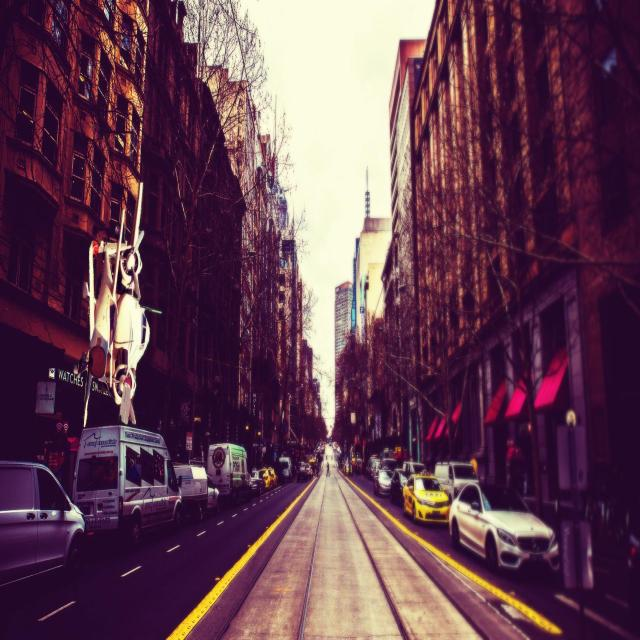airplane: (83, 181, 151, 428)
